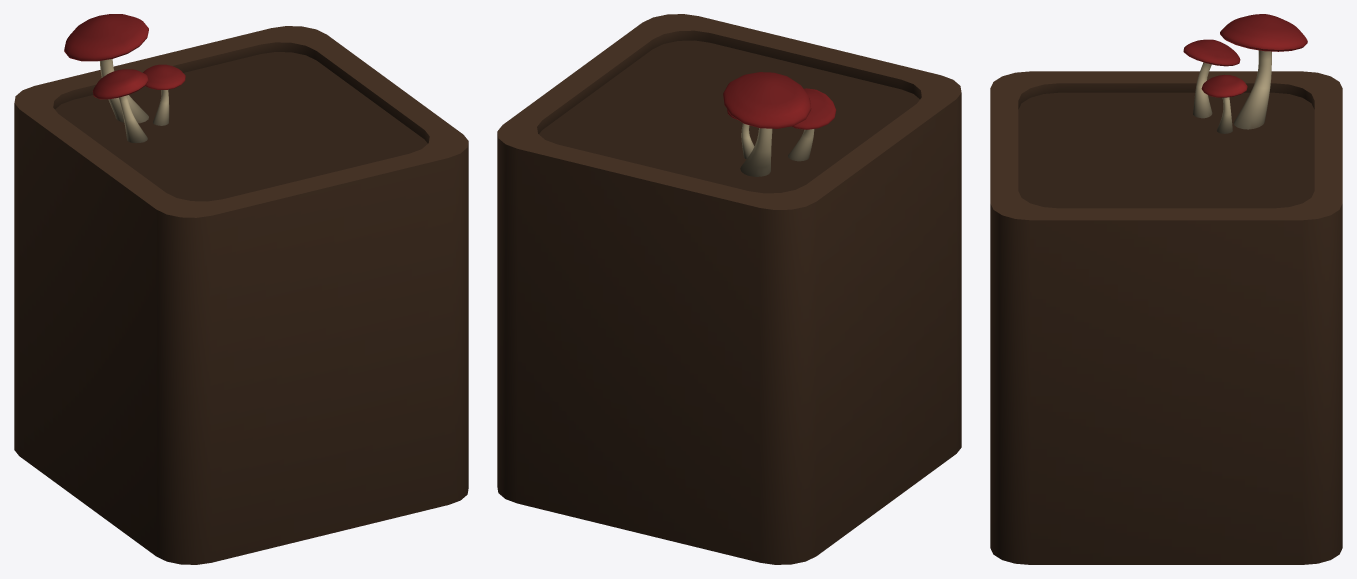
File: Forest 1.fbx
3 renders of one model, left to right at view 1: azimuth 30°, elevation 25°; view 2: azimuth 150°, elevation 25°; view 3: azimuth 270°, elevation 25°, orthographic. The views are drawn at different scales.
Visible parts, largest first — view 1: Forest Tile 1; view 2: Forest Tile 1; view 3: Forest Tile 1.
Part boxes in pixels (box(x1,y1,x2,y2)): Forest Tile 1: box(14, 14, 468, 564); Forest Tile 1: box(497, 14, 961, 564); Forest Tile 1: box(990, 14, 1342, 564).
Size of the model in its own units: 2000 by 2709 by 2000.
